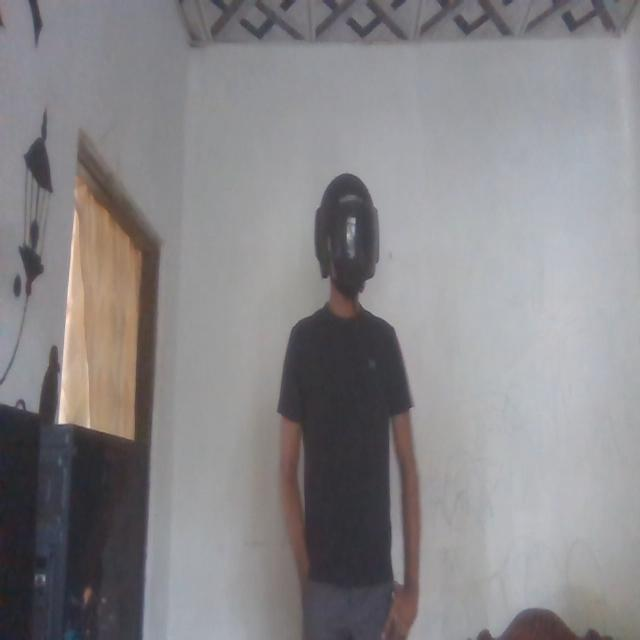Helmet_Wearer: (309, 172, 381, 312)
Person: (278, 170, 428, 640)
